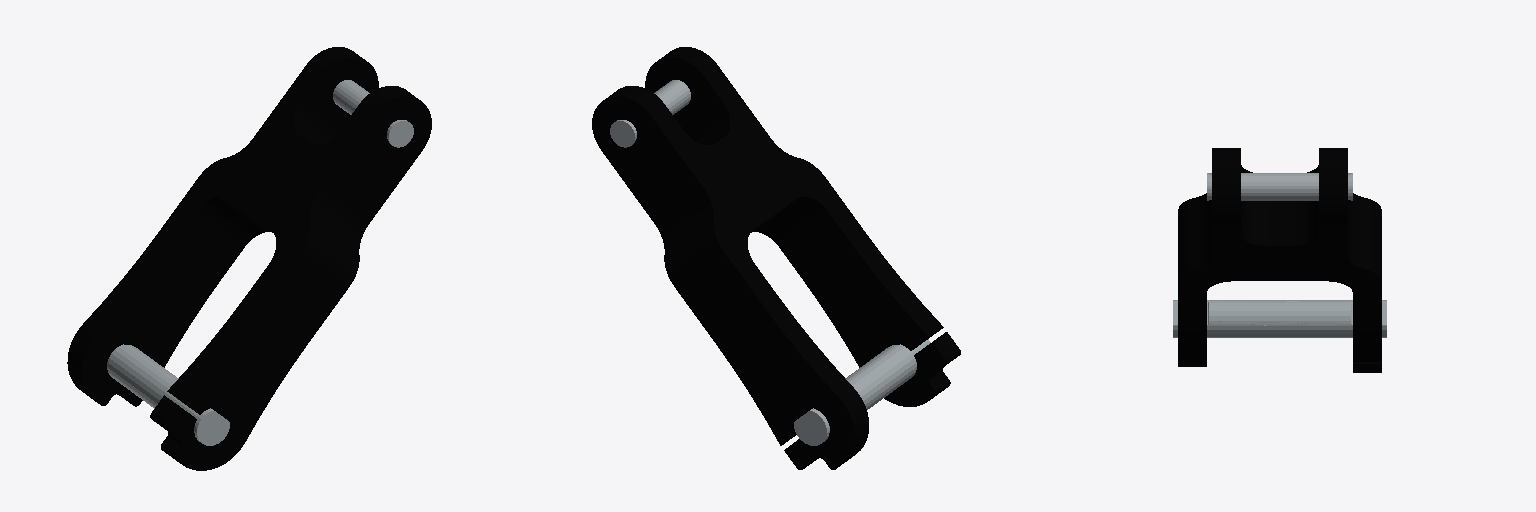
Rendered from robotiq_85_gripper_joint_2_L.obj.
3 views of the same model, side by side, from view 1: azimuth 30°, elevation 25°; view 2: azimuth 150°, elevation 25°; view 3: azimuth 270°, elevation 25° (orthographic).
Visible parts, largest first — view 1: Actor0_ActorShape0_0-Mesh.007; view 2: Actor0_ActorShape0_0-Mesh.007; view 3: Actor0_ActorShape0_0-Mesh.007.
Boxes of the visible parts, <box> form: Actor0_ActorShape0_0-Mesh.007: <box>67,47,431,470</box>; Actor0_ActorShape0_0-Mesh.007: <box>592,47,960,469</box>; Actor0_ActorShape0_0-Mesh.007: <box>1173,148,1386,372</box>.
Bounding box in the file's own units: 0.0539 × 0.0569 × 0.0352.